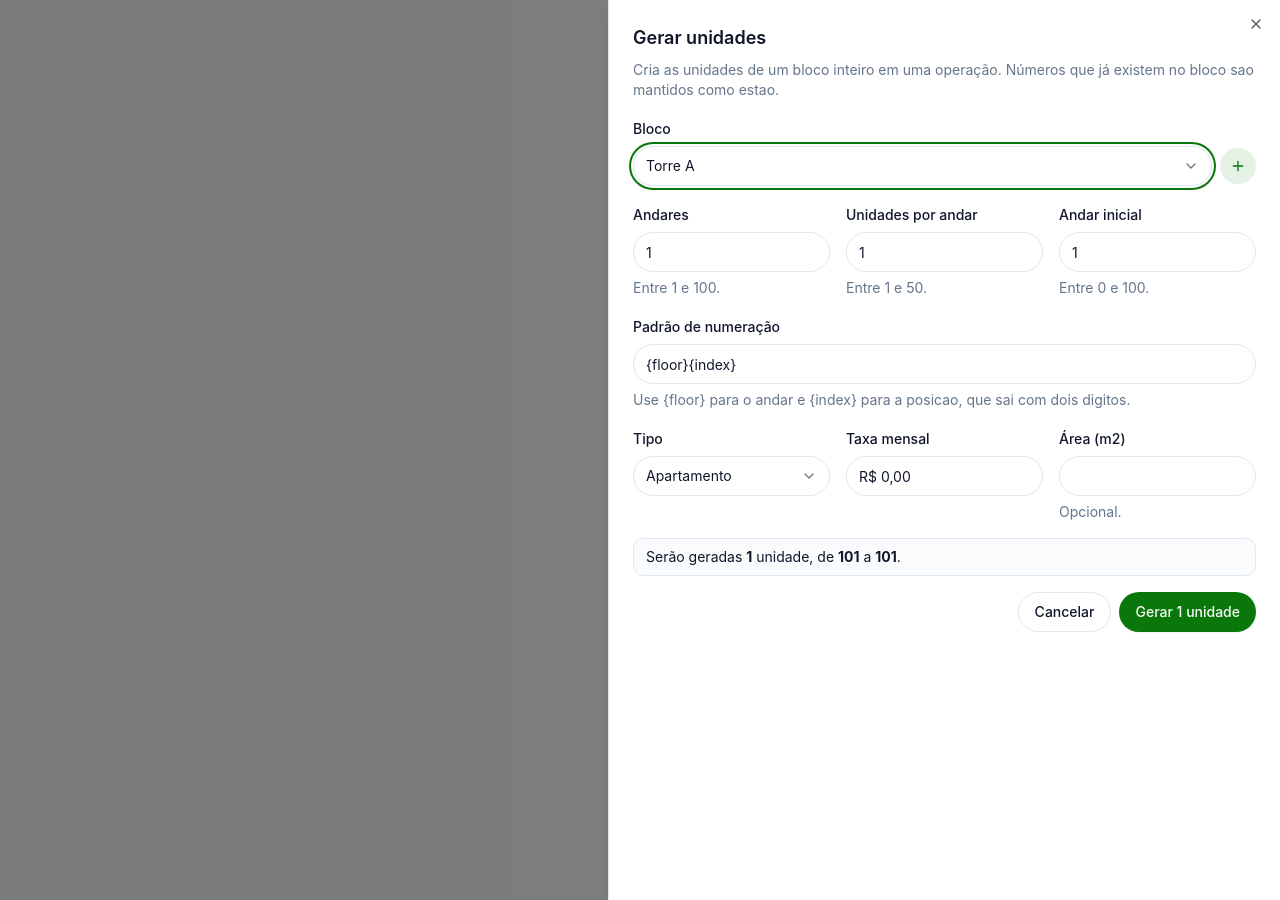
Geração de unidades em lote › IT-066: falha de rede recarrega a lista em vez de presumir o desfecho
The width and height of the screenshot is (1280, 900).
Replace the text in the field labelled "Andares" with "2": (732, 252) [633, 232, 830, 272]
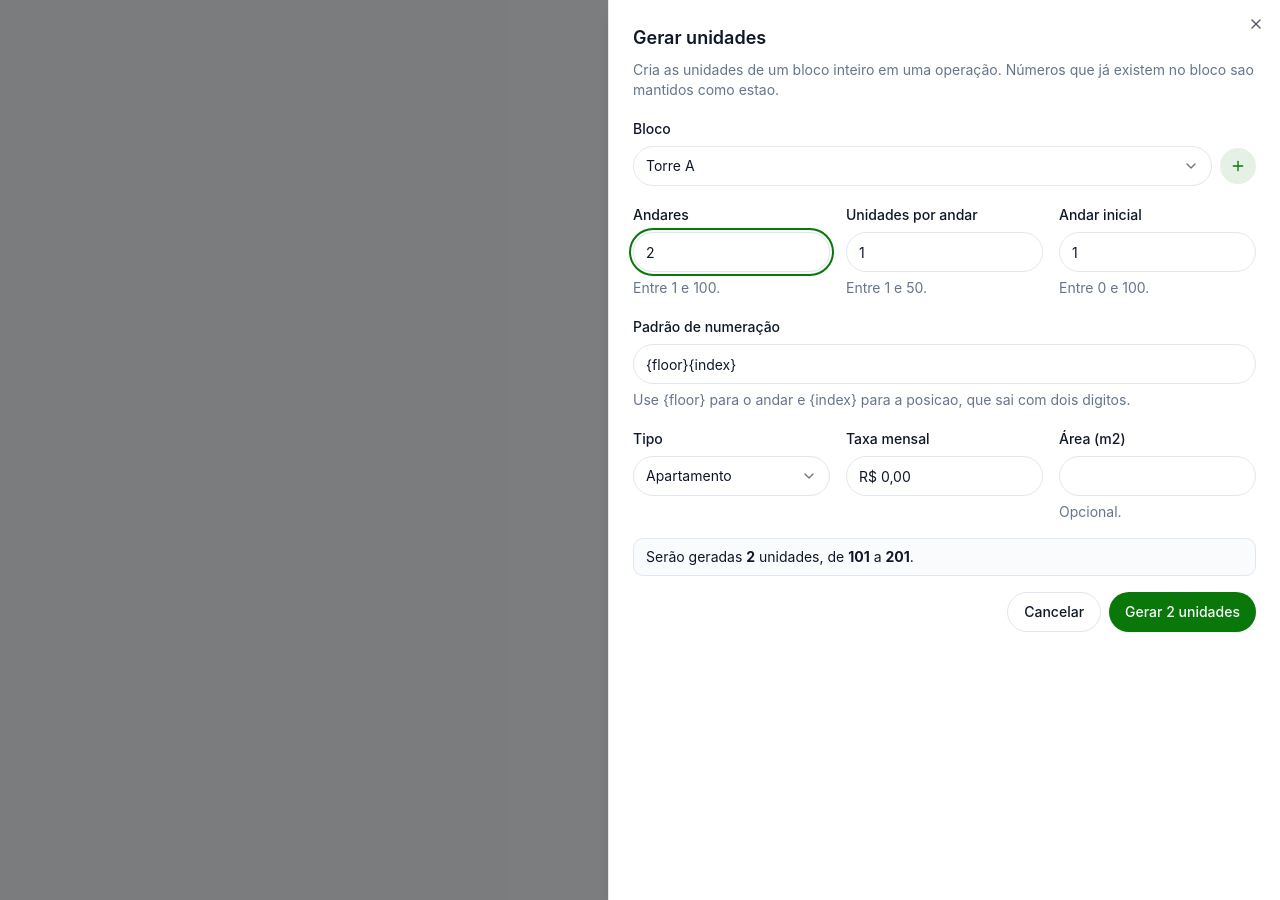
Replace the text in the field labelled "Unidades por andar" with "2": (944, 252) [846, 232, 1043, 272]
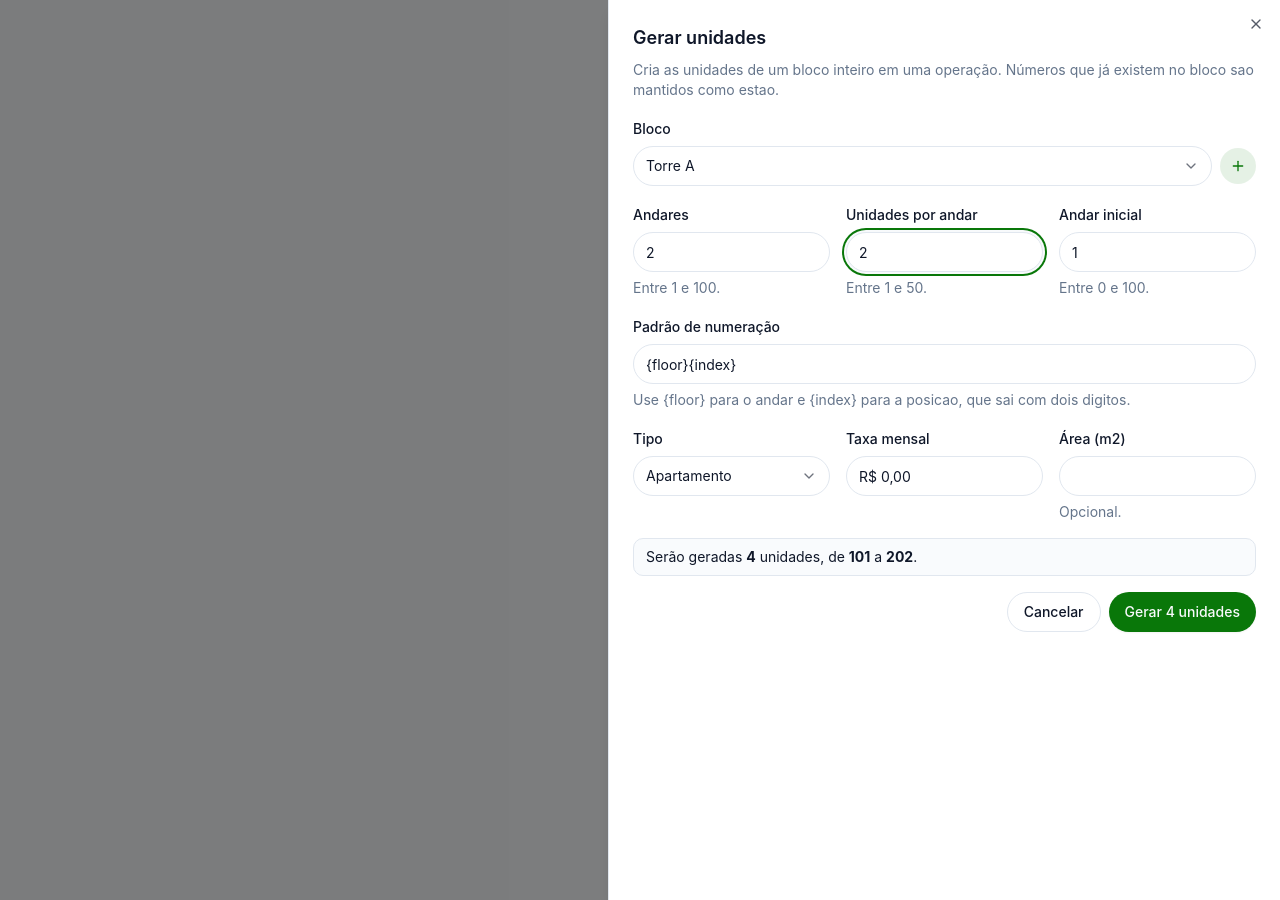
Click the button "Gerar 4 unidades": (1182, 612) [1108, 592, 1256, 632]
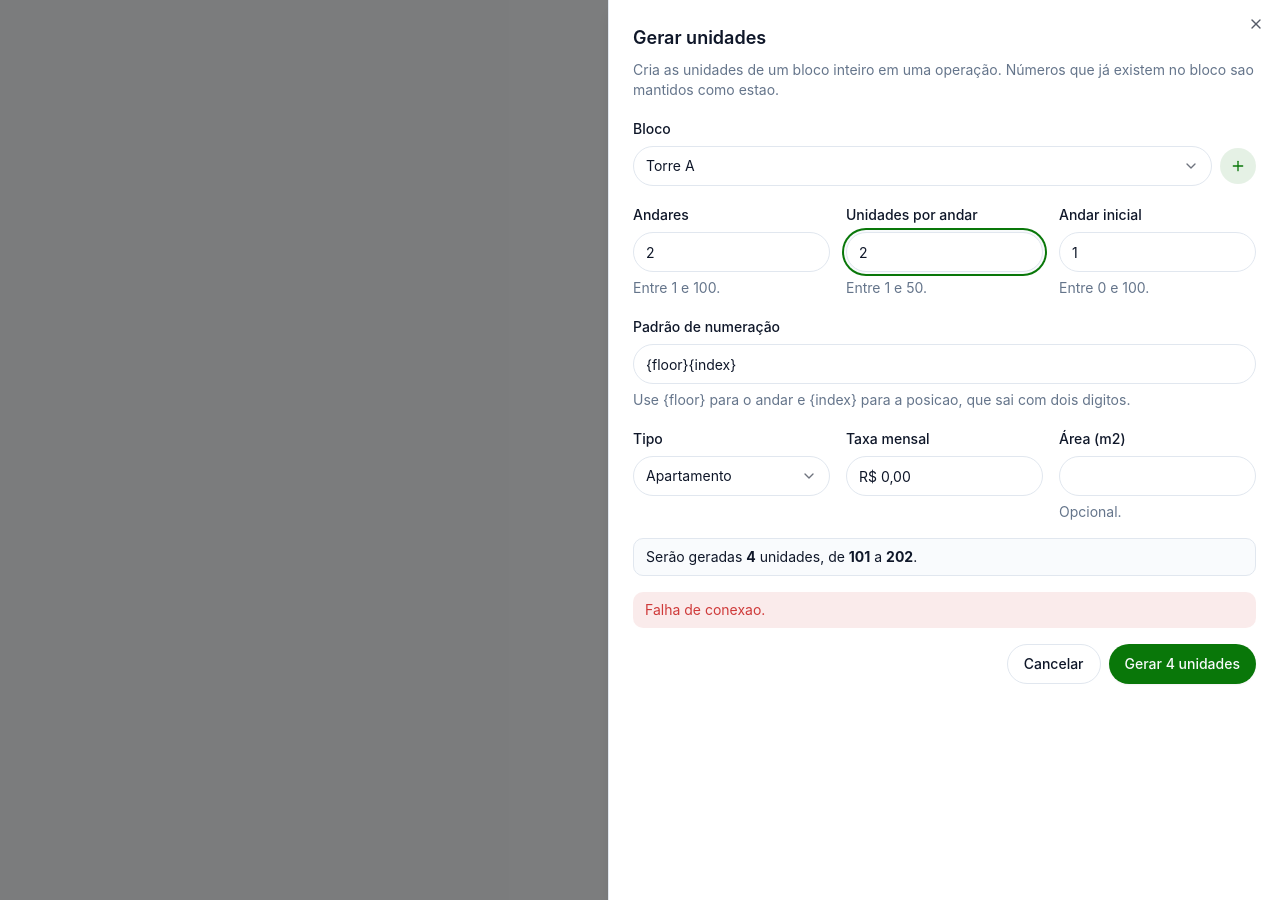
Expected: the text "Falha de conexao." is shown, [633, 592, 1256, 628]
